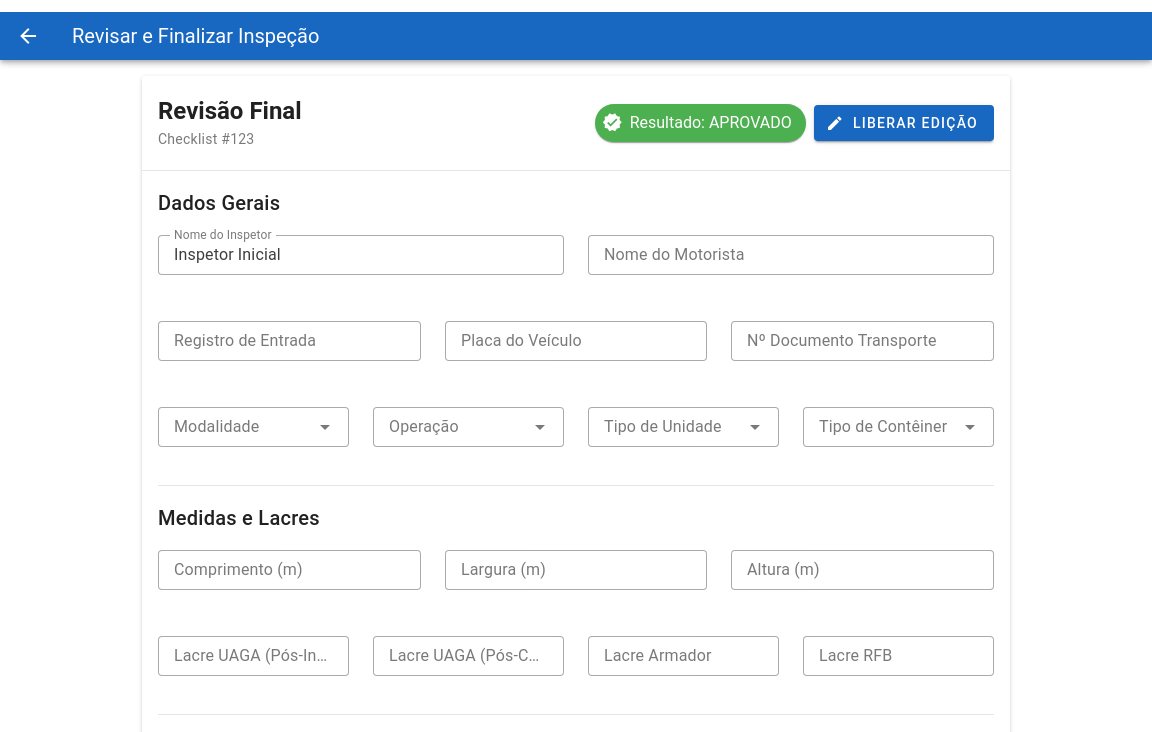
it: Tela 4: Revisar e Finalizar Inspeção › Fluxo de Edição › deve bloquear os campos novamente após salvar
Click the button with test id "edit-btn".
click(904, 123)  # box x1=814 y1=105 x2=994 y2=141
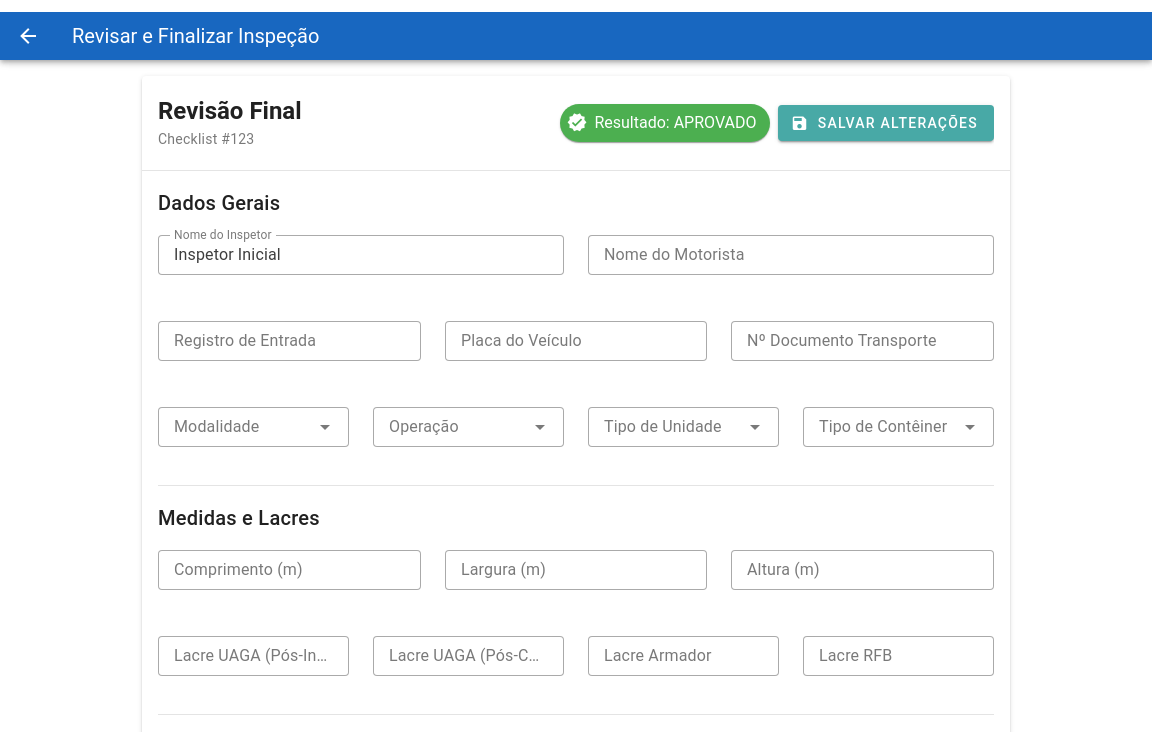
Click the button with test id "save-btn".
click(886, 123)  # box x1=778 y1=105 x2=994 y2=141
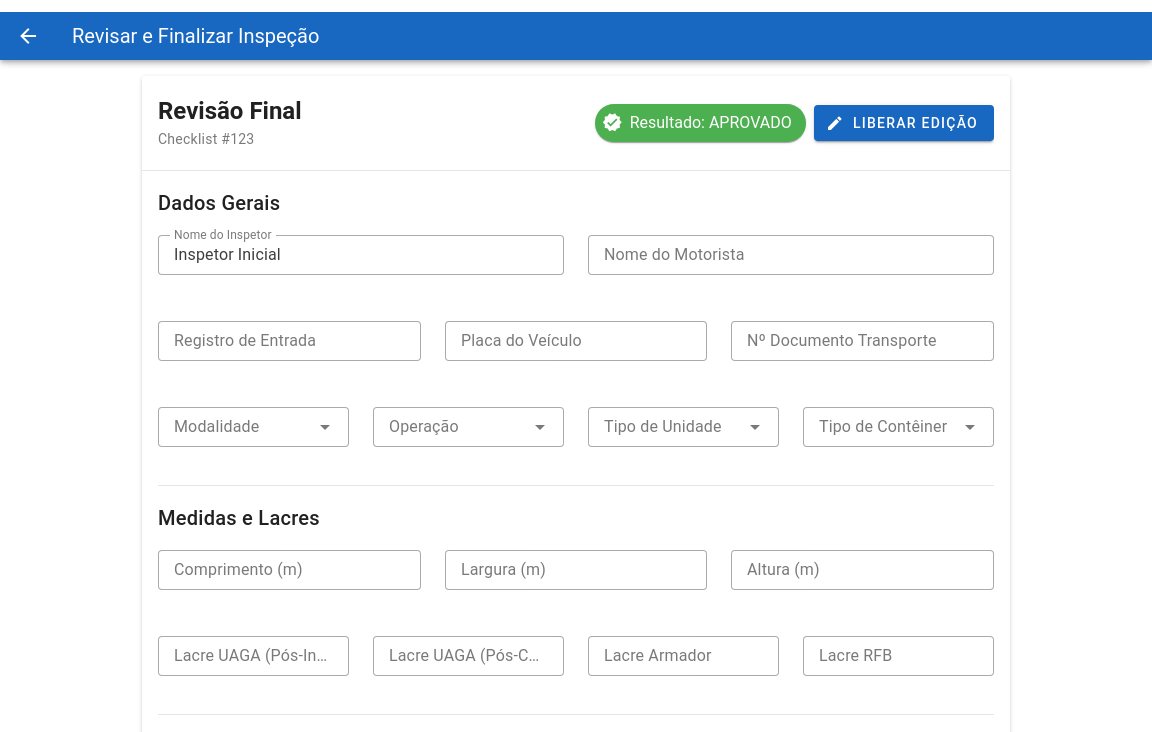
Now the button with test id "edit-btn" is shown, box x1=814 y1=105 x2=994 y2=141
